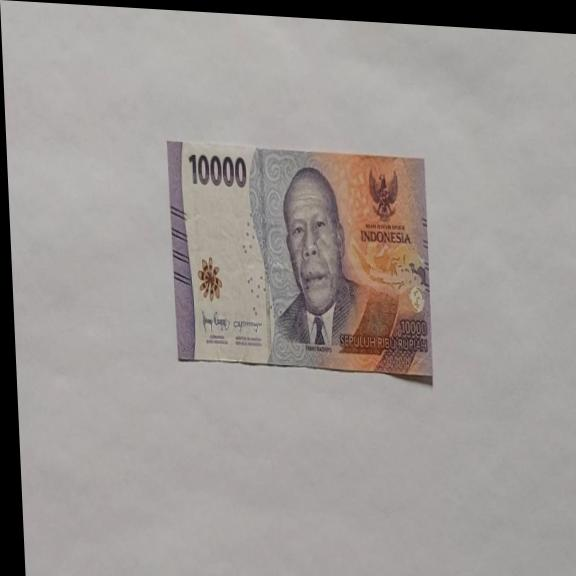Kertas: (167, 138, 435, 381), (187, 150, 248, 190)
